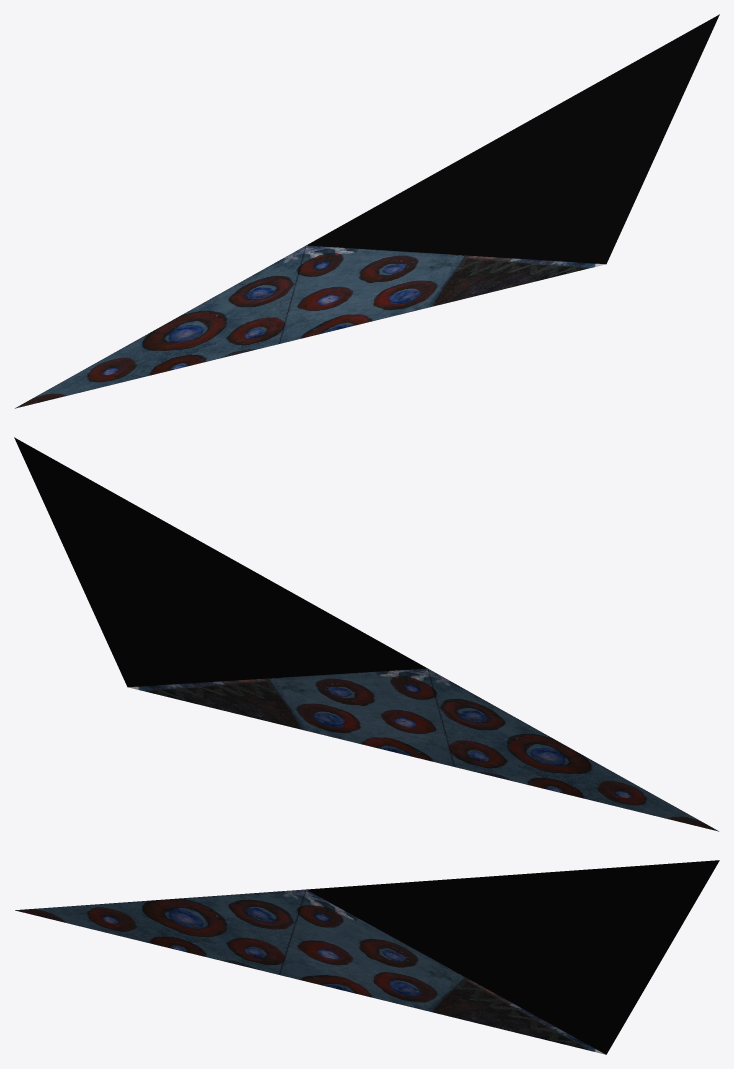
The model's file is triangle.fbx.
3 views of the same model, one above another, from view 1: azimuth 30°, elevation 25°; view 2: azimuth 150°, elevation 25°; view 3: azimuth 330°, elevation 25° (orthographic).
Visible parts, largest first — view 1: pPlane4; view 2: pPlane4; view 3: pPlane4.
Part boxes in pixels (x1=…): pPlane4: x1=15, y1=14, x2=719, y2=408; pPlane4: x1=14, y1=437, x2=718, y2=831; pPlane4: x1=15, y1=860, x2=719, y2=1054.
Bounding box in the file's own units: 22.23 × 6.69 × 1.11e-16.
2 materials, 1 textured.
